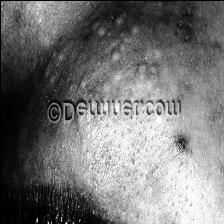Non-Cancerous Skin Condition: (172, 132, 188, 154)
